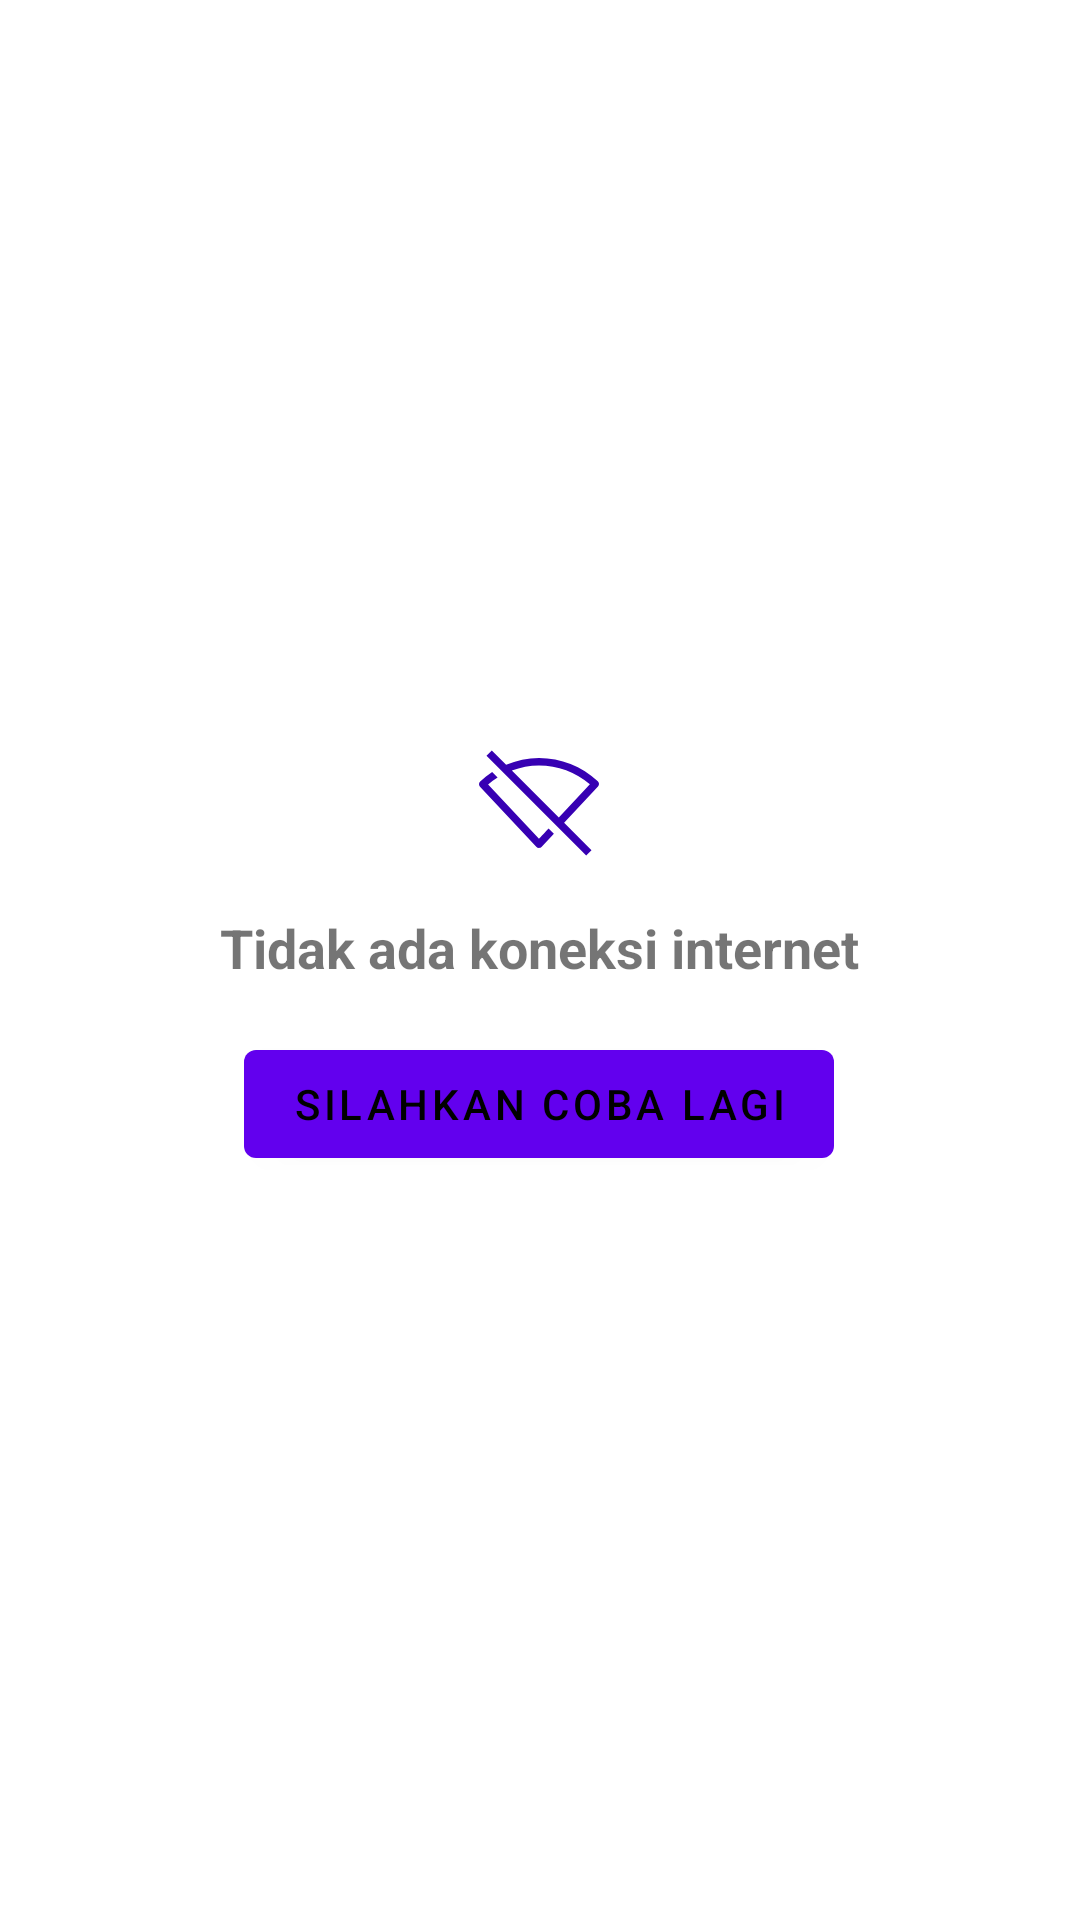

Locate icon controls on the screen. Image size 1080*1920, boxes as (x1, y1, x2, y2).
no wifi: (479, 750, 599, 856)
